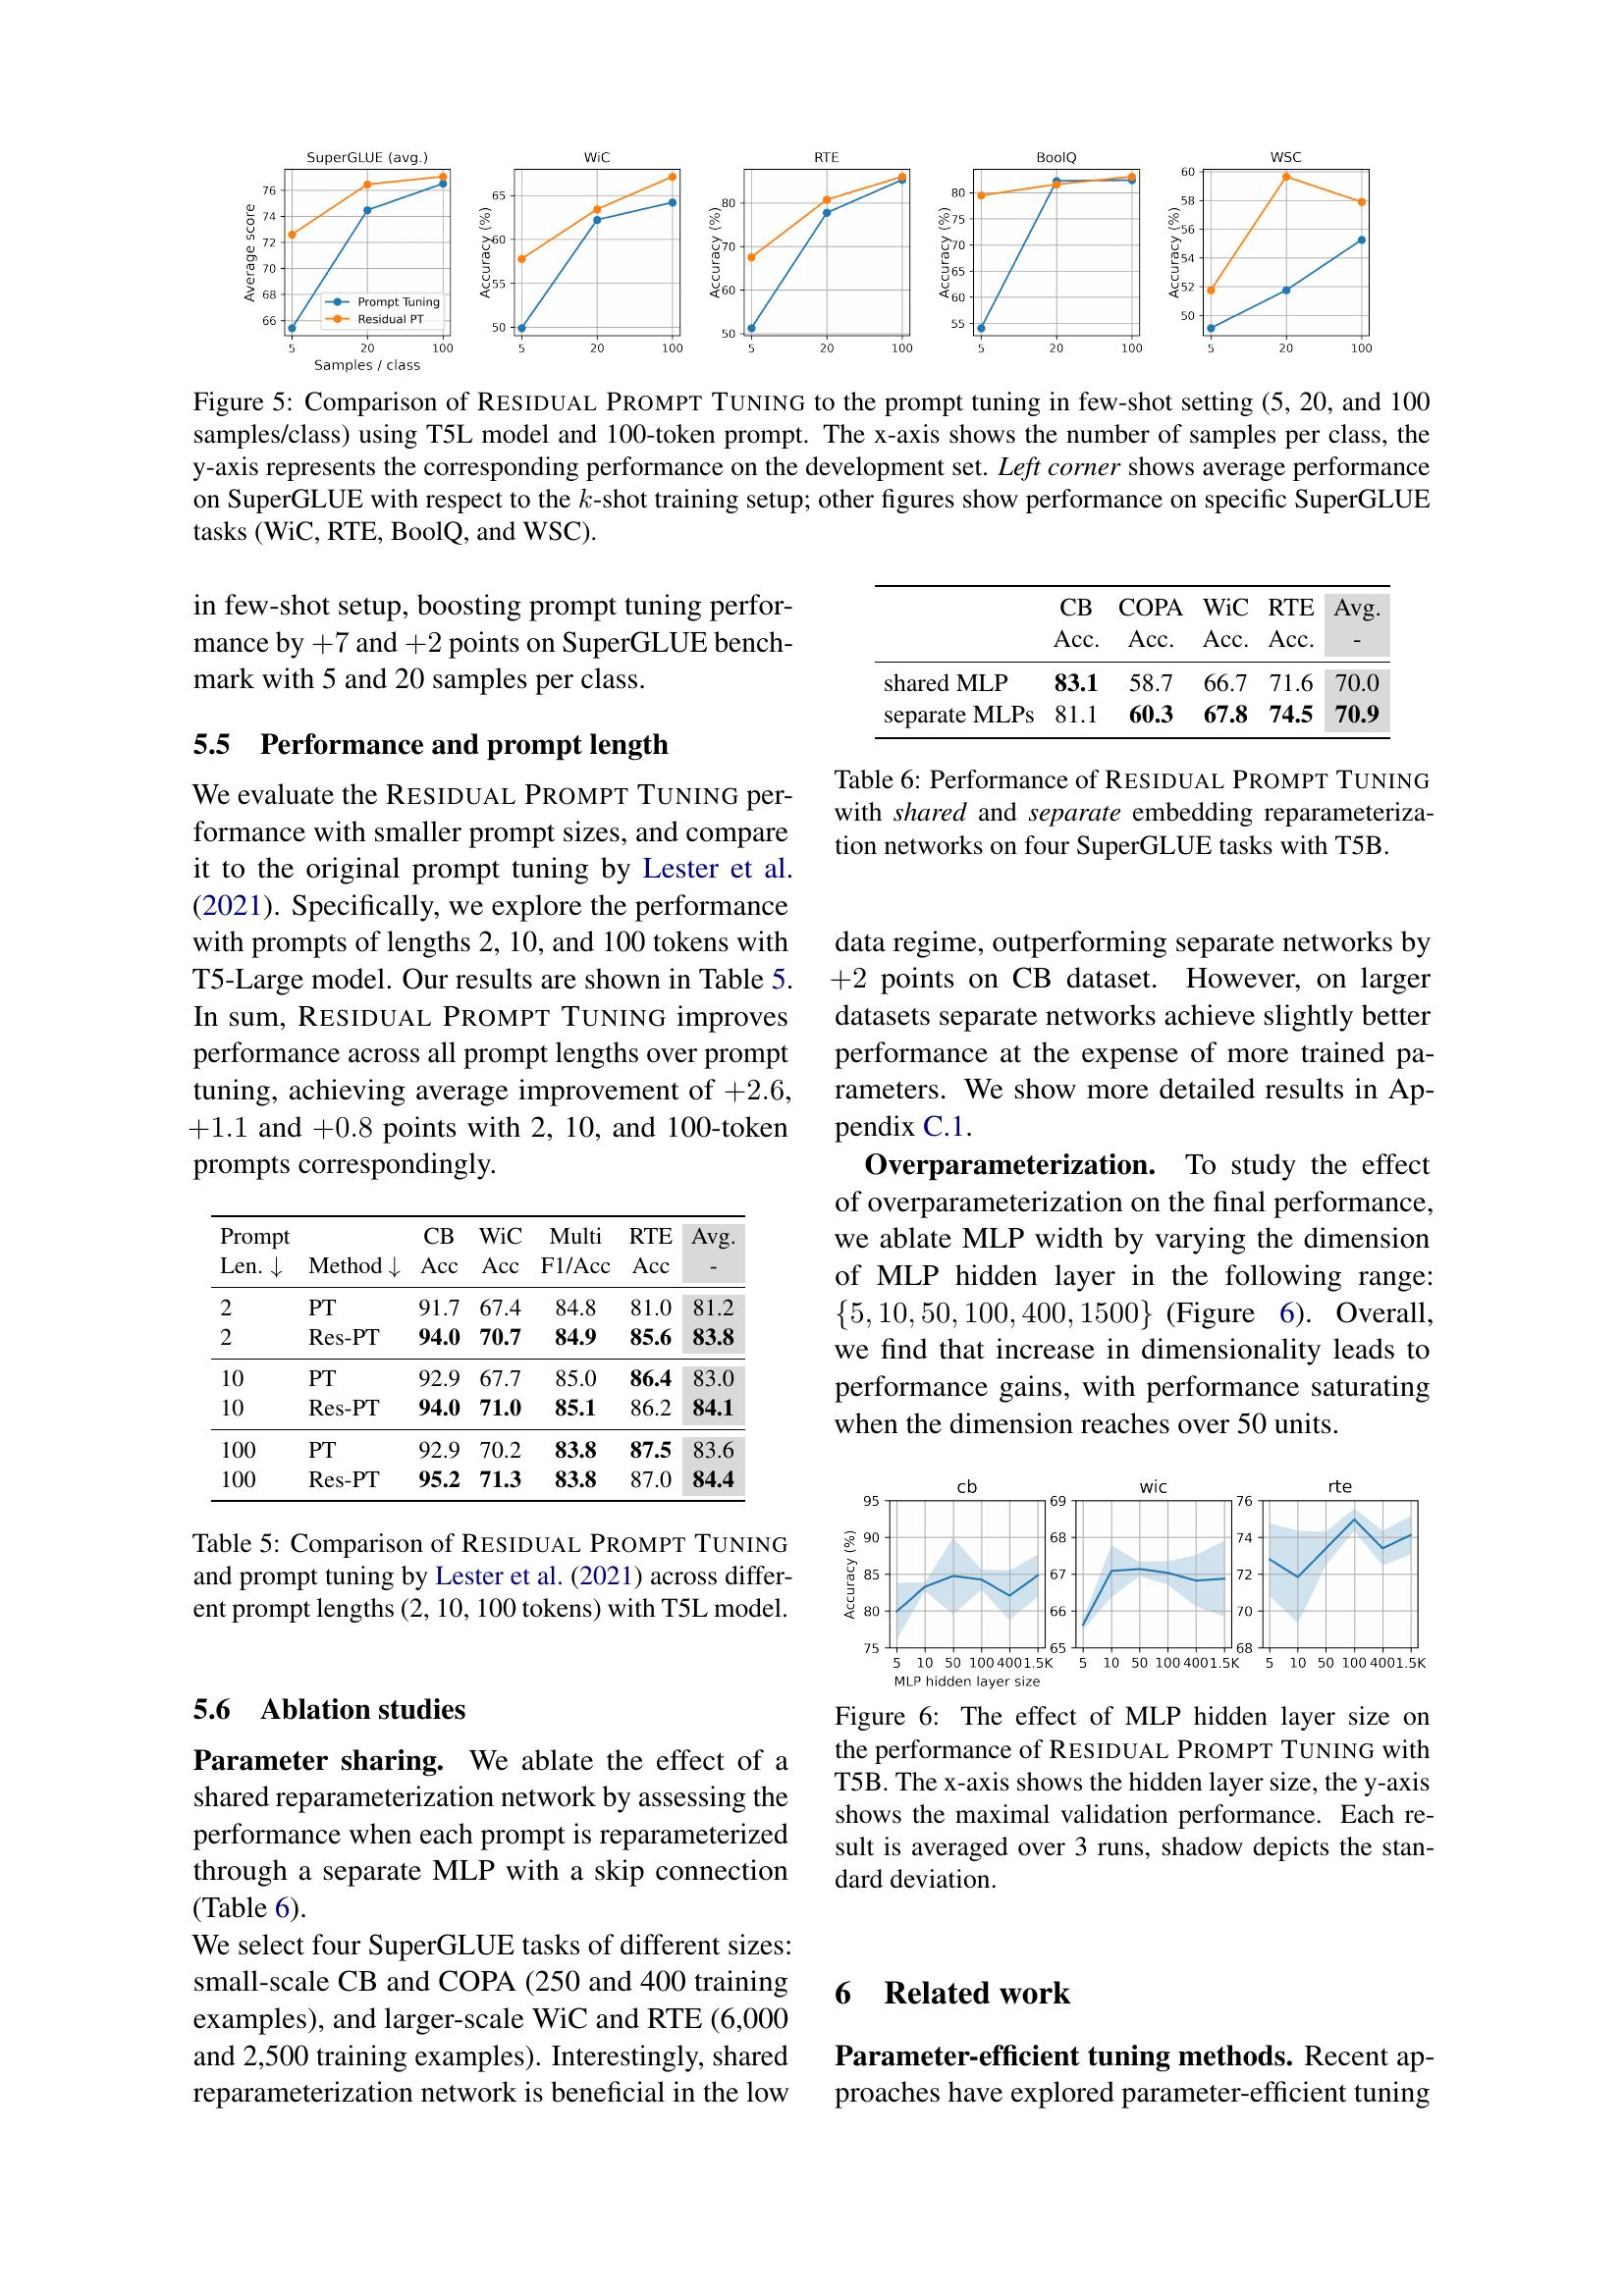figure: (181, 139, 1439, 555), (824, 1472, 1443, 1903)
table: (181, 1207, 800, 1635), (824, 574, 1439, 866)
text: (181, 581, 800, 1191), (823, 919, 1443, 1446), (181, 1685, 800, 2119), (823, 1969, 1443, 2119)
